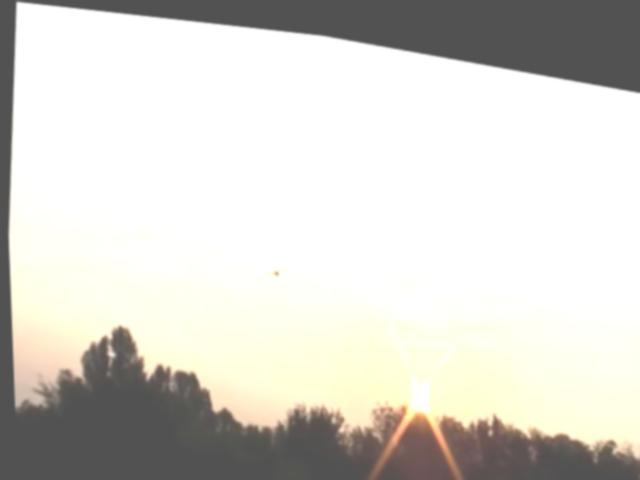iha: (262, 257, 285, 272)
